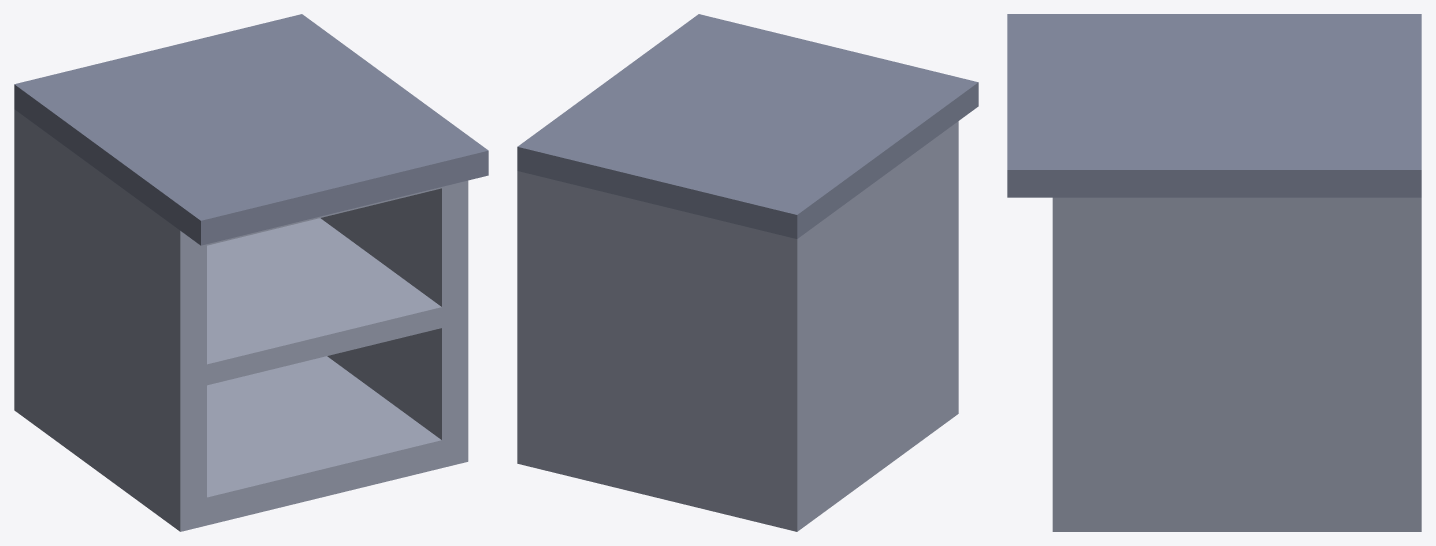
Rendered from counter-shelves.fbx.
3 renders of one model, left to right at view 1: azimuth 30°, elevation 25°; view 2: azimuth 150°, elevation 25°; view 3: azimuth 270°, elevation 25°, orthographic. The views are drawn at different scales.
Visible parts, largest first — view 1: counter_shelves; view 2: counter_shelves; view 3: counter_shelves.
Boxes of the visible parts, x1=… form: counter_shelves: x1=14, y1=14, x2=488, y2=531; counter_shelves: x1=517, y1=14, x2=978, y2=531; counter_shelves: x1=1007, y1=14, x2=1421, y2=531.
Bounding box in the file's own units: 100 × 108 × 112.
